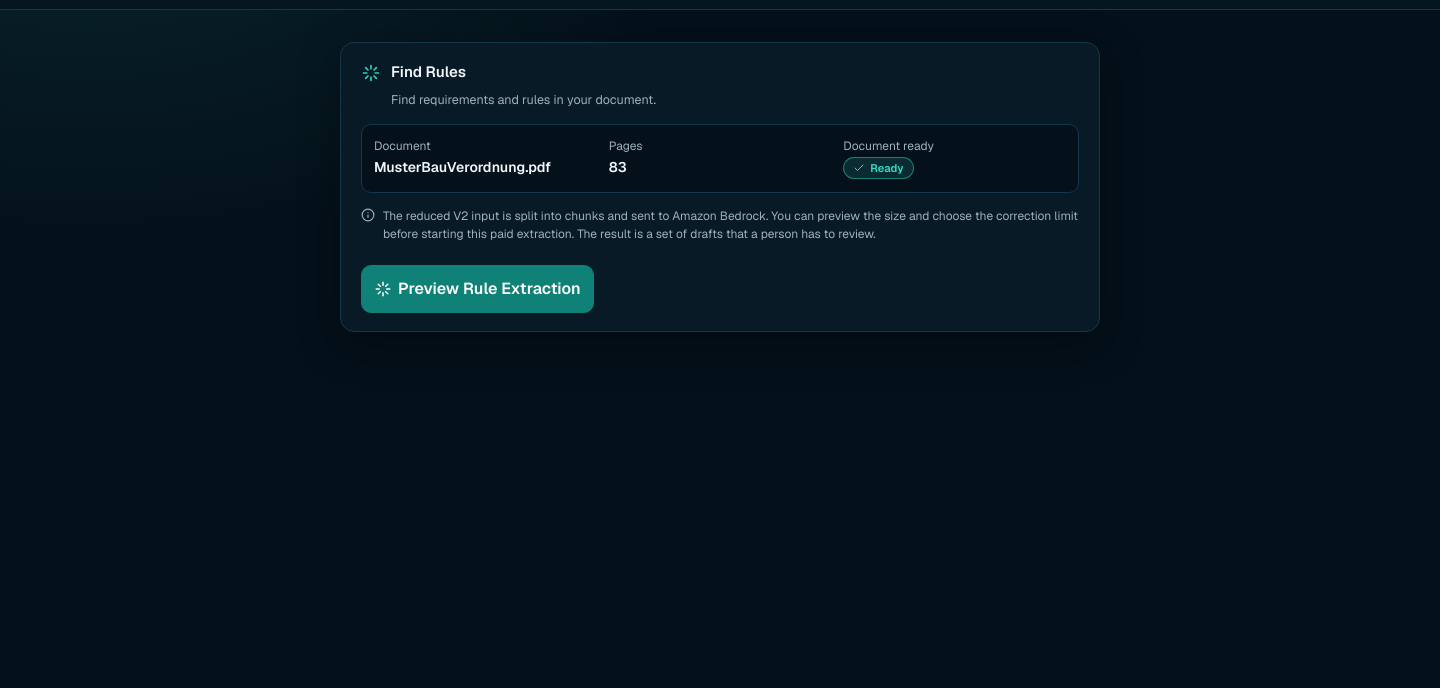
Test: starting an extraction › follows an extraction that is already running (409) instead of failing
The image size is (1440, 688).
Click the button "Preview Rule Extraction".
click(477, 289)  # box [361,265,594,313]
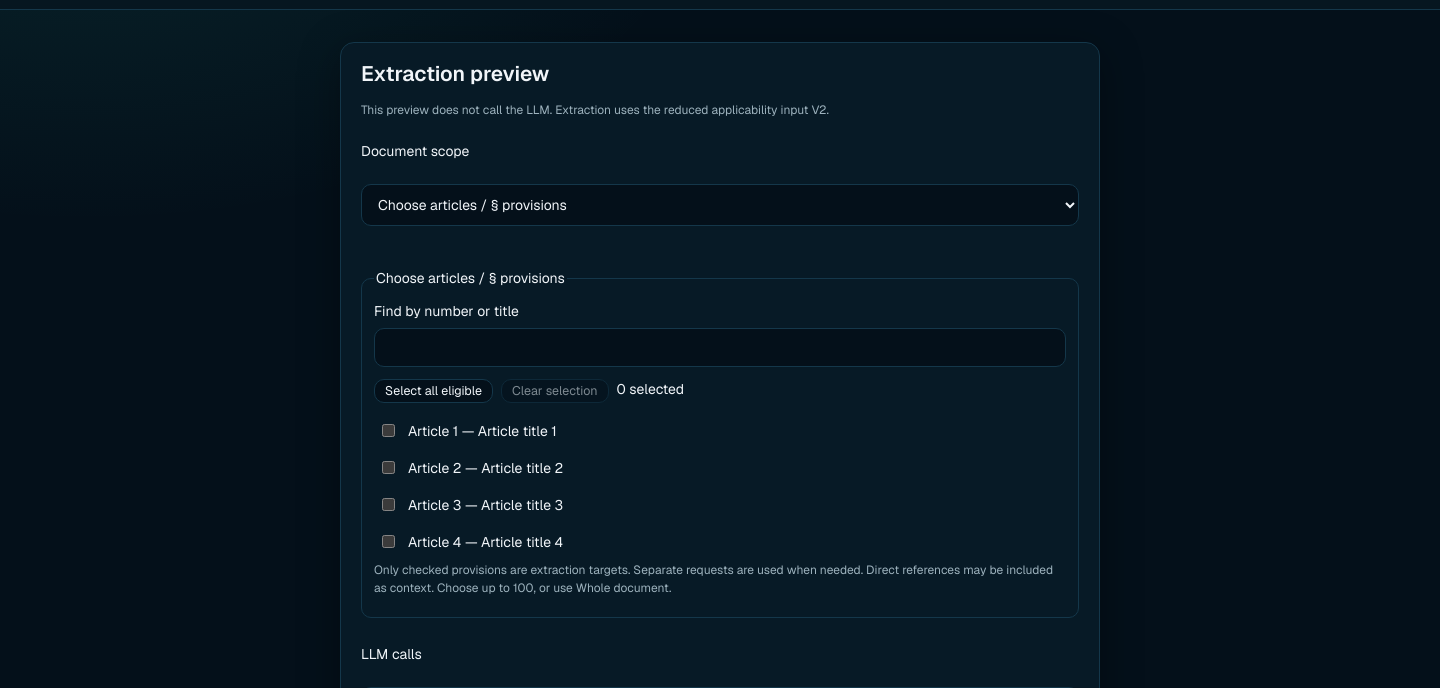
Click the checkbox labelled "Article 1 — Article title 1".
click(388, 431)  # box [382,424,395,437]
(page scrolled)
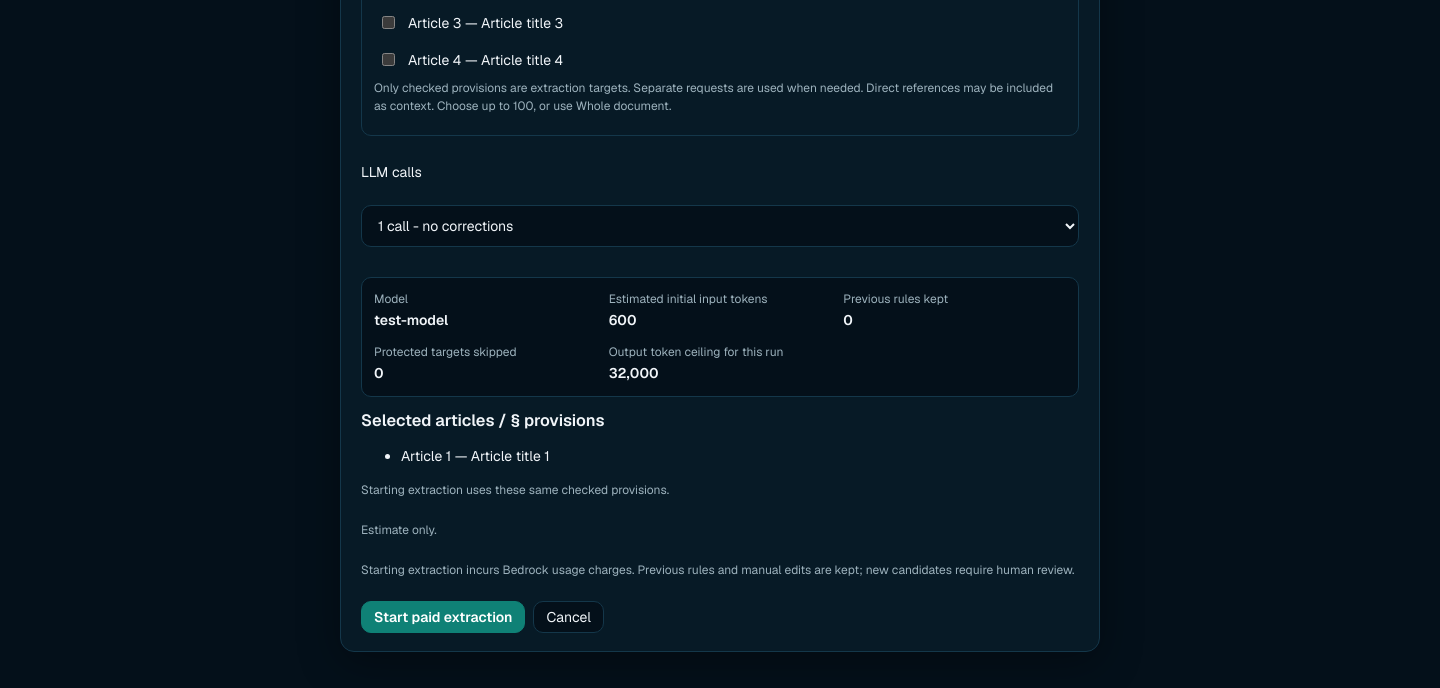
Click the button "Start paid extraction".
click(443, 617)  # box [361,601,526,633]
(page scrolled)
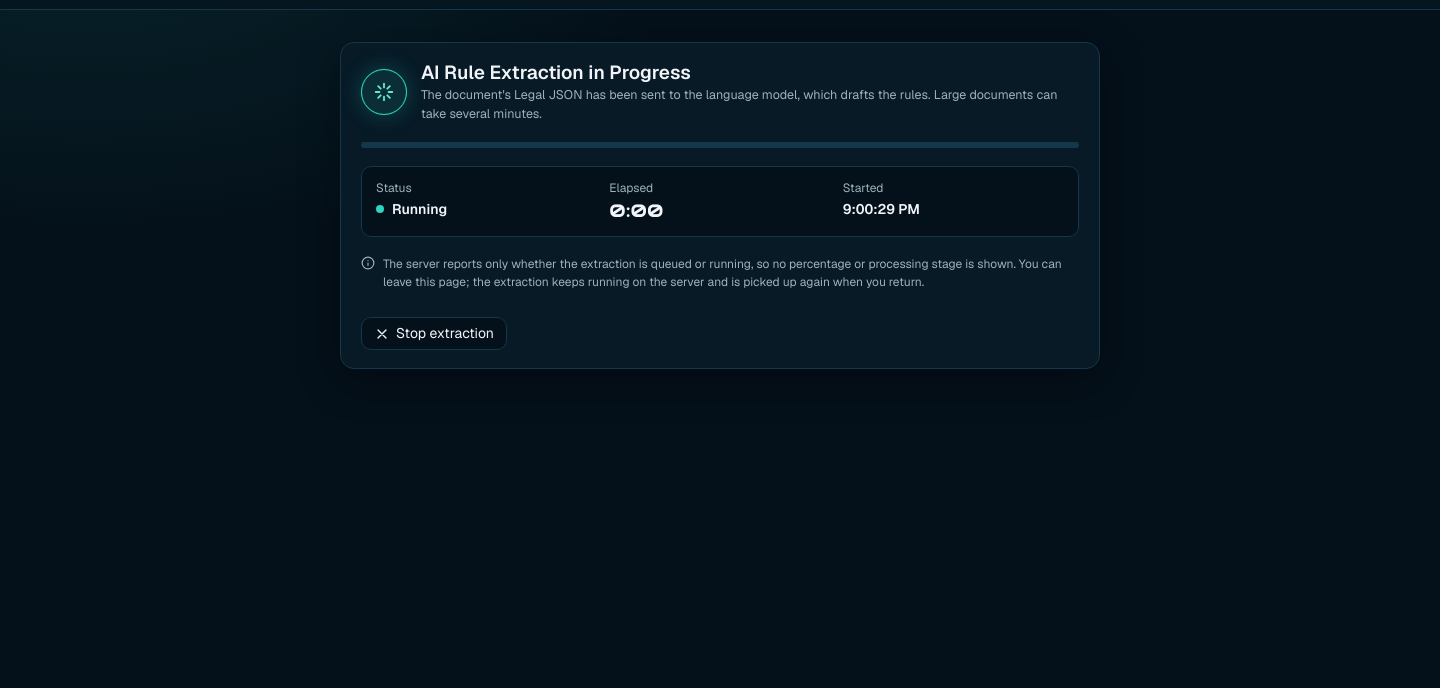
Now the element with class "rex-progress-facts" shows "Running", box [392,200,447,218]
